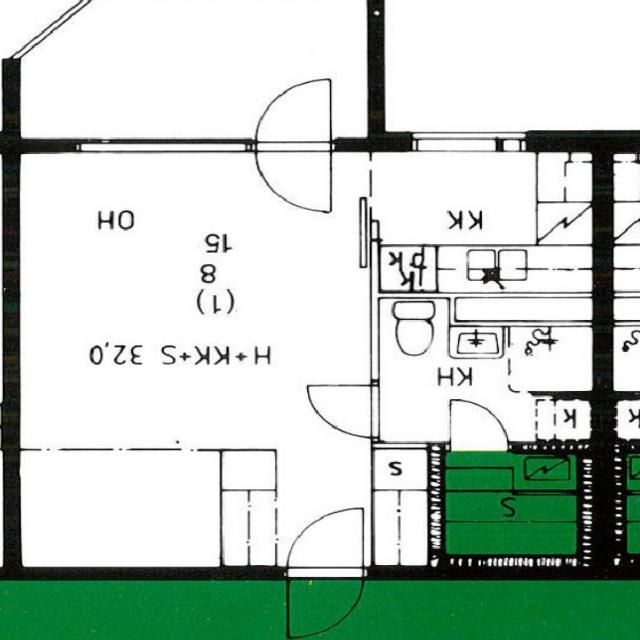door: (286, 506, 363, 580), (256, 77, 331, 152), (286, 567, 363, 640), (256, 138, 331, 212), (305, 385, 379, 437), (449, 395, 507, 454)
